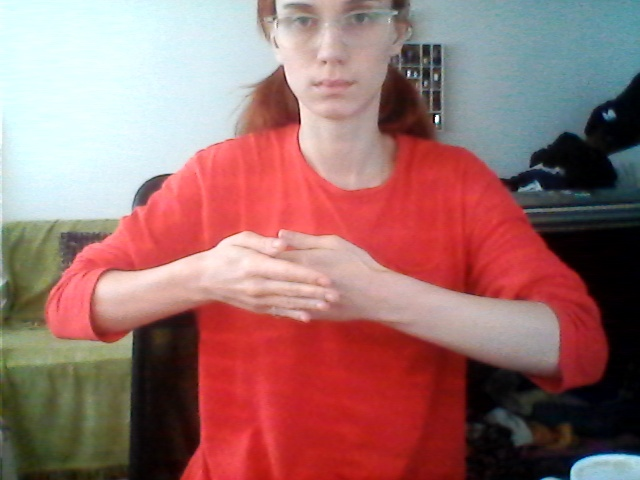dvere: (207, 224, 397, 337)
